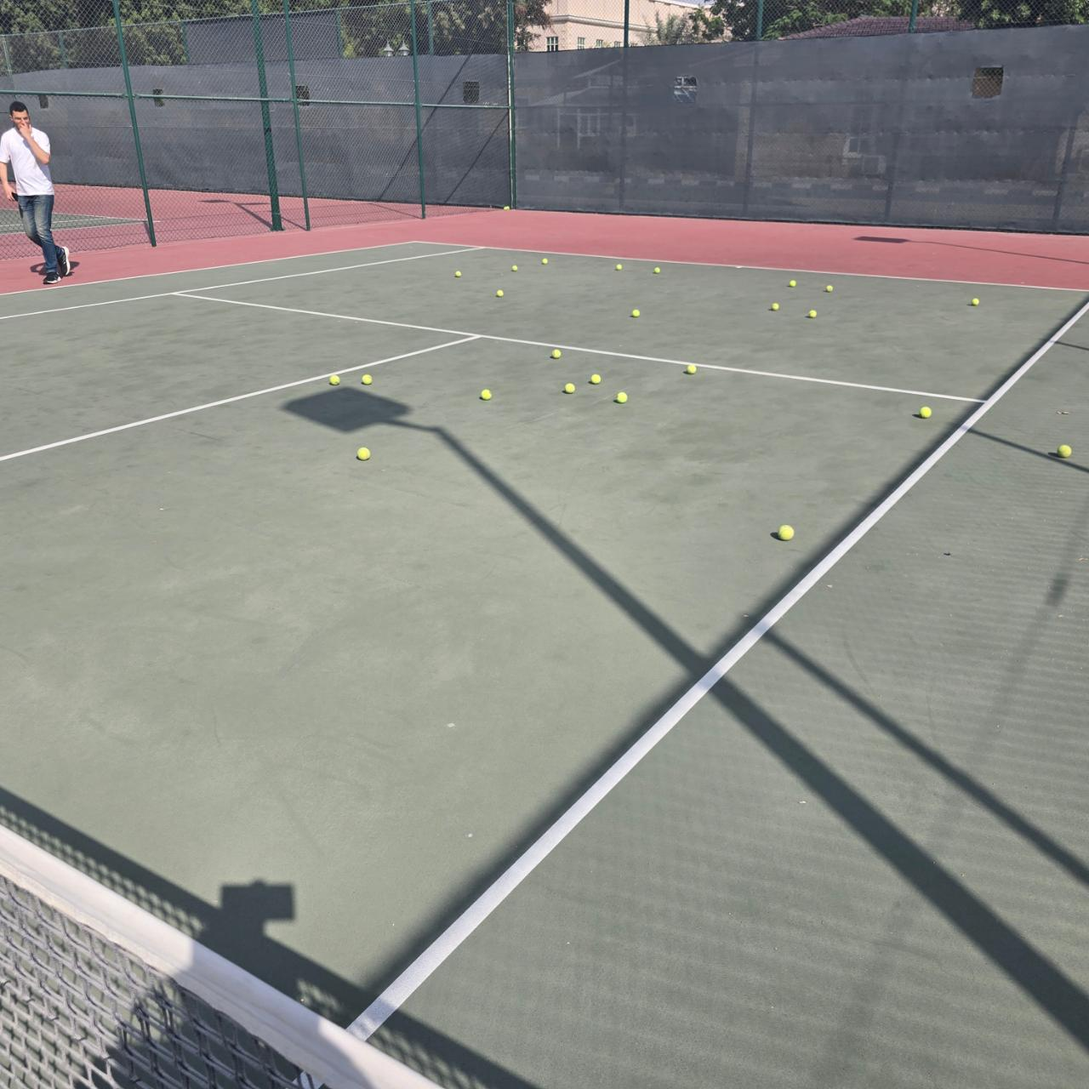tennis-ball: (777, 522, 794, 541), (1057, 442, 1072, 458), (355, 445, 370, 460), (917, 404, 931, 419), (360, 372, 373, 385), (615, 391, 628, 403), (590, 372, 602, 385), (563, 382, 576, 394), (480, 388, 492, 401), (328, 373, 340, 385), (685, 364, 696, 375), (551, 350, 562, 360), (971, 296, 979, 306), (632, 309, 640, 318), (771, 302, 779, 311), (808, 310, 817, 318), (789, 280, 798, 288), (511, 264, 519, 272), (540, 258, 549, 265), (825, 285, 834, 292), (654, 267, 661, 275), (496, 290, 504, 297), (616, 264, 623, 270), (456, 271, 462, 277), (503, 206, 510, 211)
